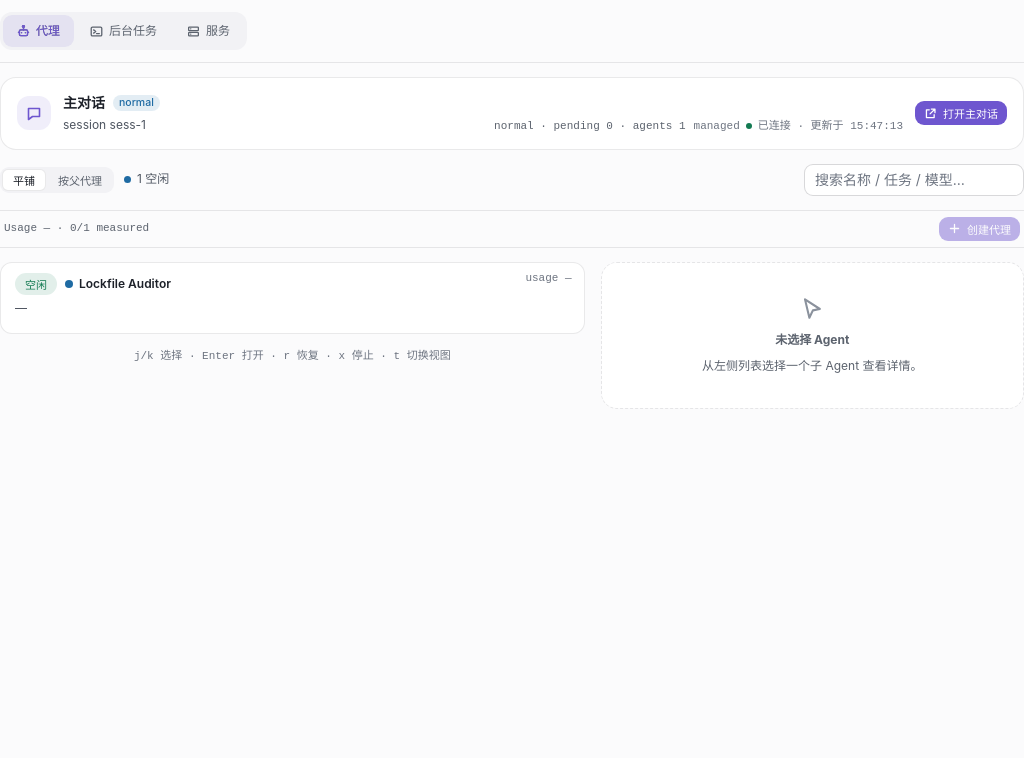
Test: AgentHubPage real-mode projection › asks only whether to stop the task and submits agent.kill immediately
This screenshot has width=1024, height=758.
Click the option "空闲 Lockfile Auditor — usage —". click: (36, 284)
box: [0,262,585,334]
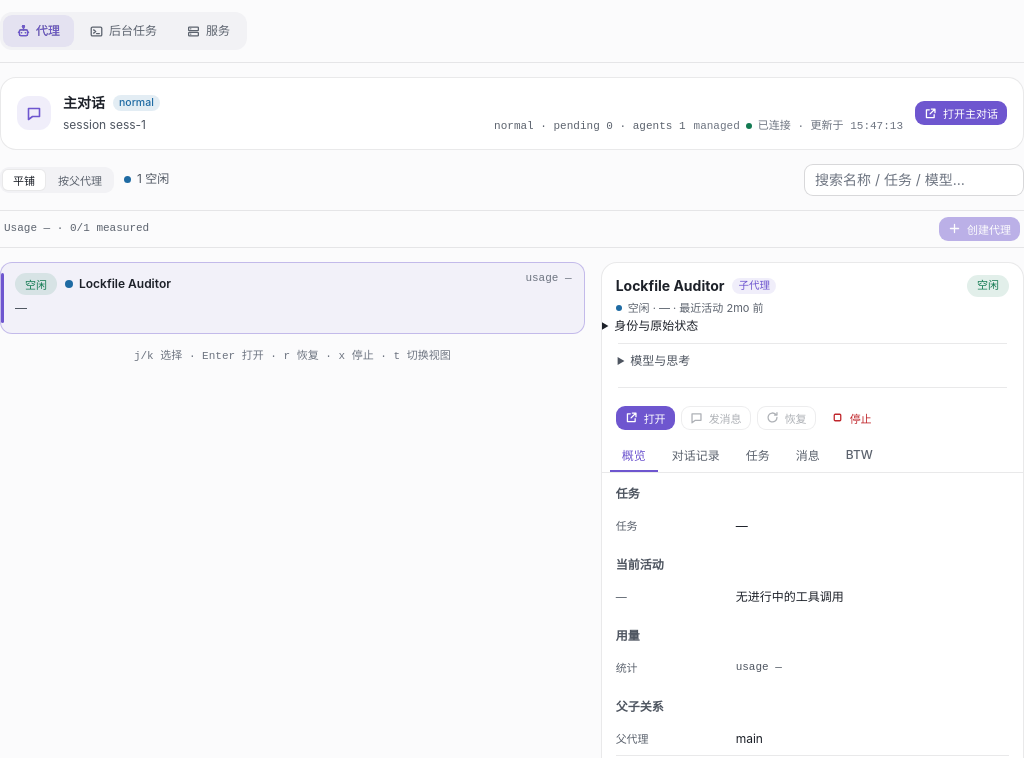
Click the button "停止". click: (851, 418)
box: [822,406,881,430]
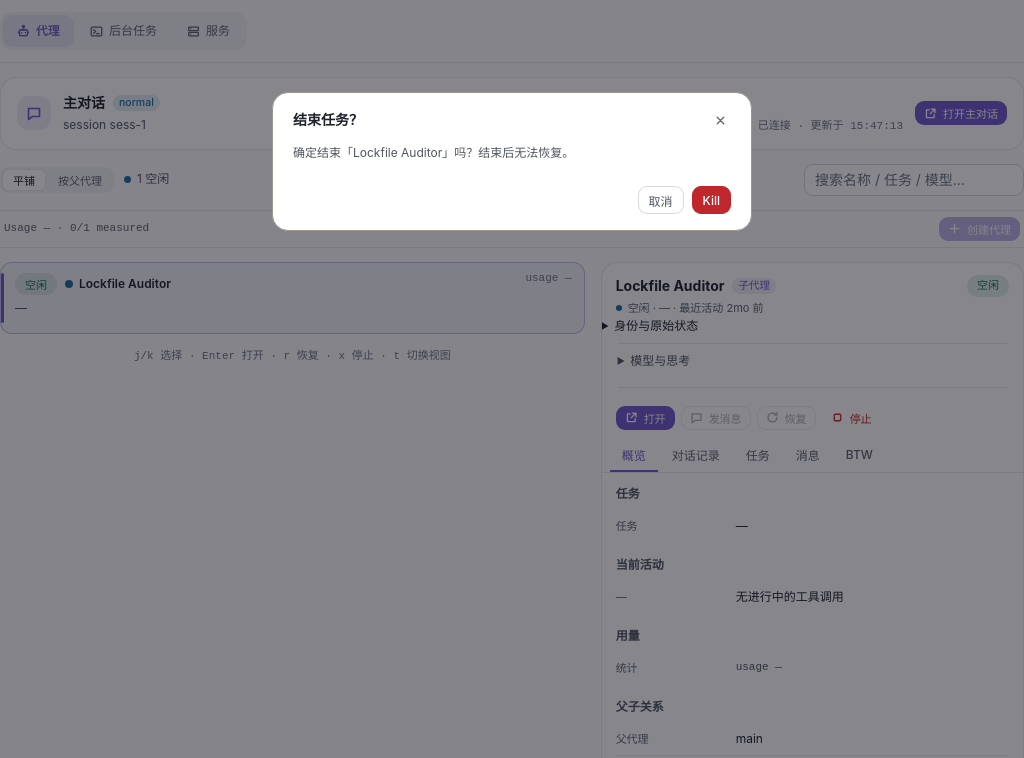
Now the dialog "结束任务" shows "确定结束「Lockfile Auditor」吗？结束后无法恢复。", box [272,92,752,231]
Click the button "Kill". click: (711, 200)
box: [692,186,731,214]
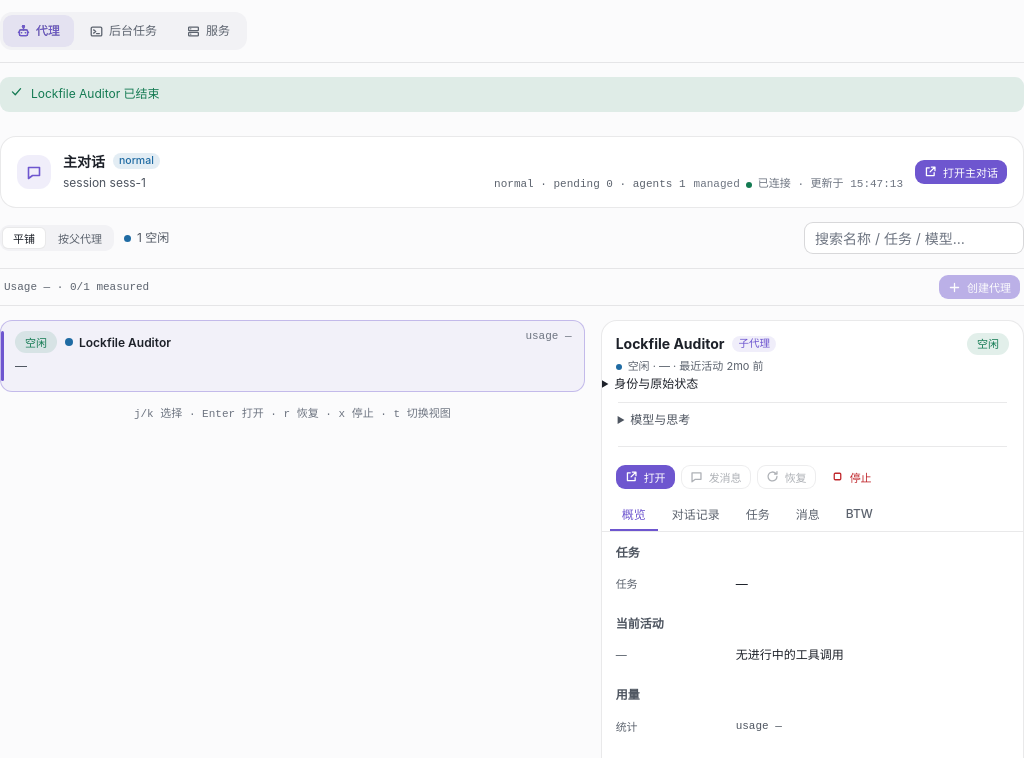
Now the text "结束任务" is gone
